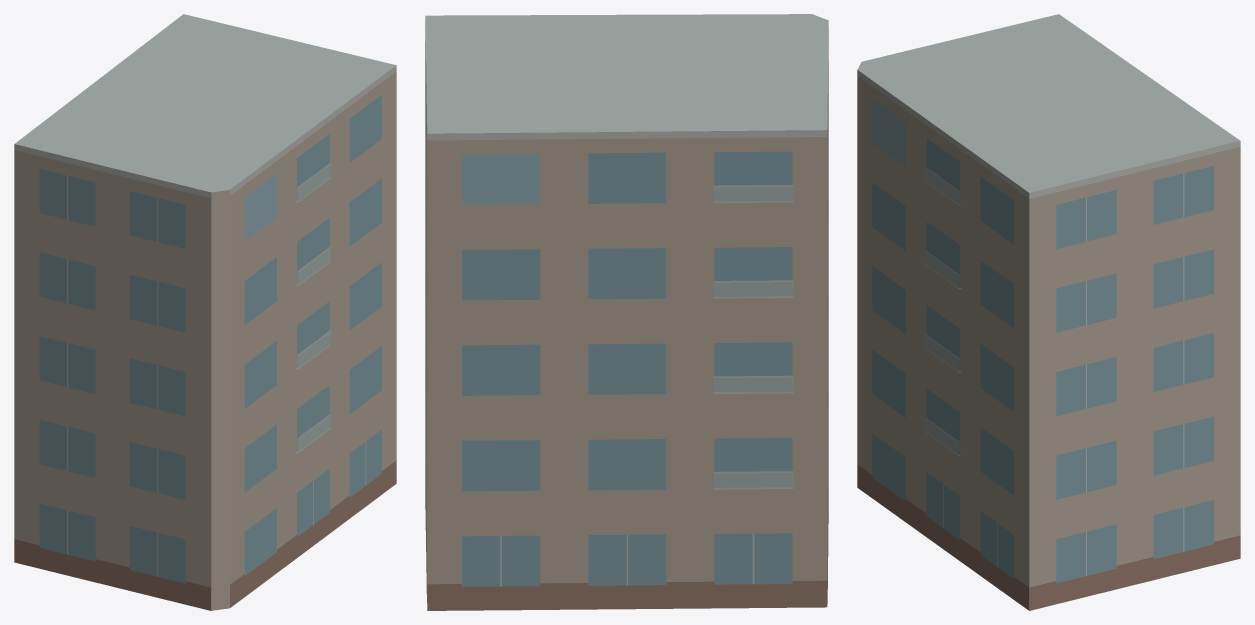
File: survey-upis-32909799.glb
3 renders of one model, left to right at view 1: azimuth 30°, elevation 25°; view 2: azimuth 150°, elevation 25°; view 3: azimuth 270°, elevation 25°, orthographic. The views are drawn at different scales.
Visible parts, largest first — view 1: survey-upis-32909799.tmp; view 2: survey-upis-32909799.tmp; view 3: survey-upis-32909799.tmp.
Part boxes in pixels (bbox=[...]): survey-upis-32909799.tmp: bbox=[14, 14, 396, 610]; survey-upis-32909799.tmp: bbox=[425, 14, 828, 610]; survey-upis-32909799.tmp: bbox=[857, 14, 1240, 610].
Size of the model in its own units: 15.63 by 17 by 14.13.
